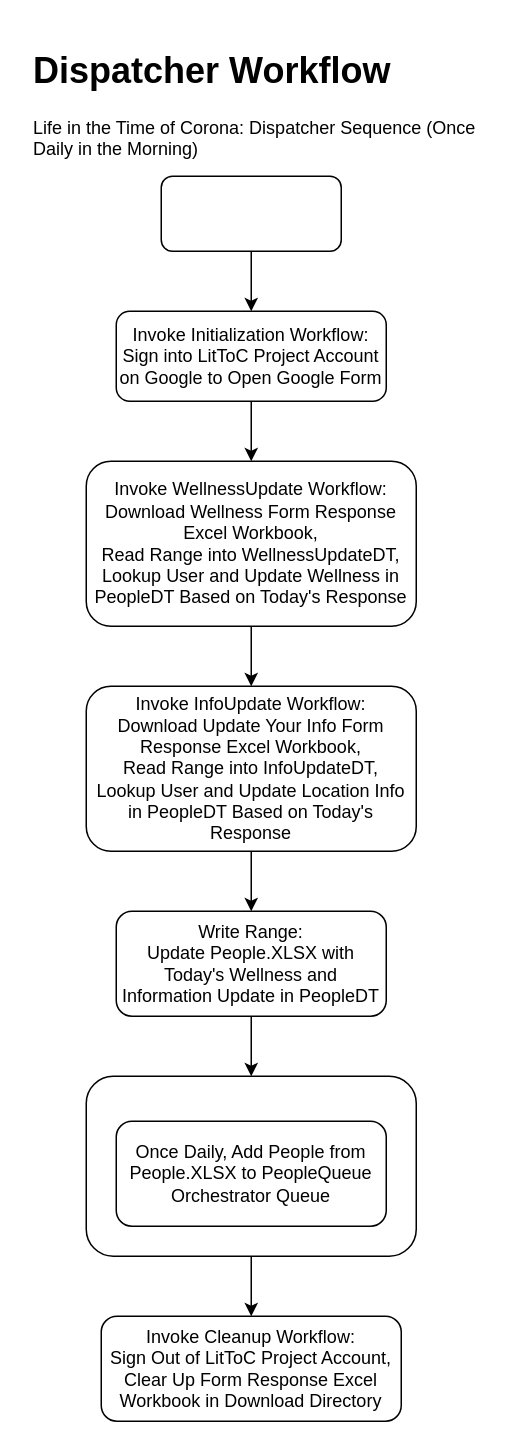
Image size: 516x1448. Some labels were removed from this diagram. Each missing label, with the box of its shape:
Read Range: People.XLSX into PeopleDT: (160, 175, 341, 251)
Try/Catch: Dispatcher Sequence: (85, 1075, 416, 1256)
